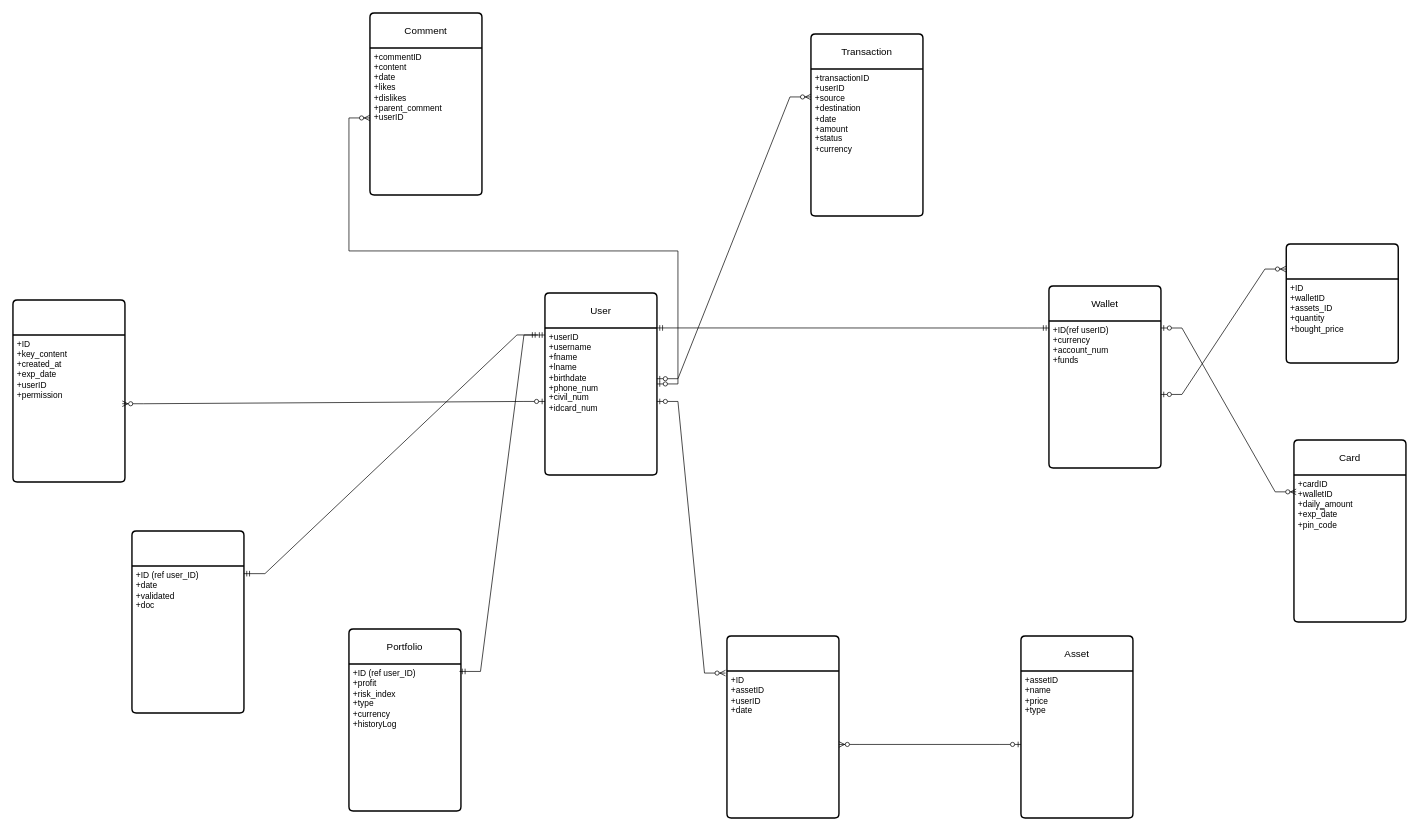
Image size: 1418x830. Some labels were removed from this diagram. The shapes that lost their labels are listed below. From the top down, each one's box as (x1, y1, x2, y2) in pixels, then its label:
(1285, 243, 1399, 363): OwnedAssets
(12, 299, 125, 482): API key
(131, 530, 244, 713): Address Doc
(726, 635, 839, 818): Order
